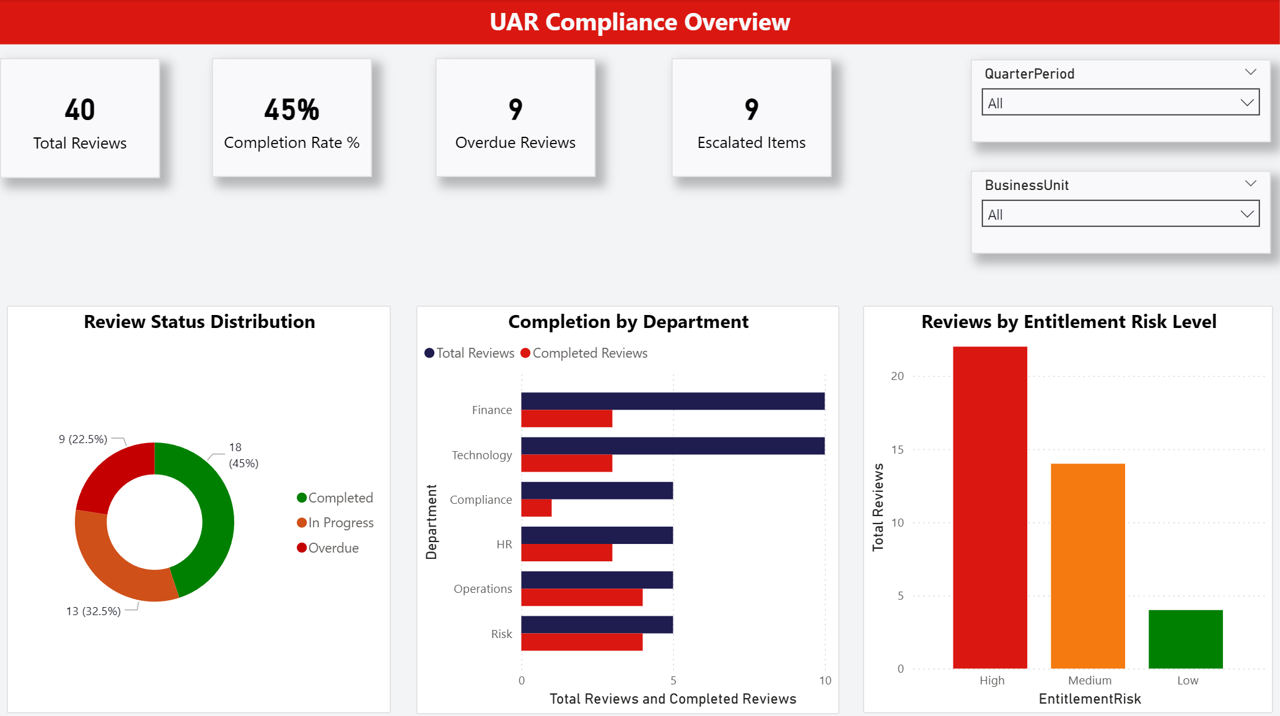

What the dashboard file says about the page in this screenshot:
{"tool":"powerbi","page":{"name":"Compliance Overview","canvas":[1280,720],"ordinal":0},"visuals":[{"type":"card","fields":{"Values":["IAM_UAR_Data.Total Reviews Card"]},"box":[0,59.1,160,120],"z":0},{"type":"card","fields":{"Values":["IAM_UAR_Data.Completion Rate %"]},"box":[211.8,59.1,160,119.1],"z":1000},{"type":"card","fields":{"Values":["IAM_UAR_Data.Overdue Reviews"]},"box":[435.5,59.1,160,119.1],"z":2000},{"type":"card","fields":{"Values":["IAM_UAR_Data.Escalated Items"]},"box":[671.8,59.1,160,119.1],"z":3000},{"type":"donutChart","title":"Review Status Distribution","fields":{"Category":["IAM_UAR_Data.ReviewStatus"],"Y":["IAM_UAR_Data.Total Reviews"]},"box":[6.8,306.7,383.5,408.3],"z":4000},{"type":"clusteredBarChart","title":"Completion by Department","fields":{"Category":["IAM_UAR_Data.Department"],"Y":["IAM_UAR_Data.Total Reviews","IAM_UAR_Data.Completed Reviews"]},"box":[416.2,306.7,422.5,408.8],"z":5000},{"type":"clusteredColumnChart","title":"Reviews by Entitlement Risk Level","fields":{"Category":["IAM_UAR_Data.EntitlementRisk"],"Y":["IAM_UAR_Data.Total Reviews"]},"box":[863.1,306.7,410.2,408.3],"z":6000},{"type":"slicer","fields":{"Values":["IAM_UAR_Data.BusinessUnit"]},"box":[970.7,171.8,300,82.7],"z":7000},{"type":"slicer","fields":{"Values":["IAM_UAR_Data.QuarterPeriod"]},"box":[970.7,60,300,82.7],"z":8000},{"type":"textbox","box":[0,0,1280,45],"z":9000}]}

Visuals, with their boxes in screenshot pixels (x1, y1, x2, y2), scaled from the page's 1280x720 canvas onto the 1280x716 screenshot:
card - IAM_UAR_Data.Total Reviews Card: <region>0, 59, 160, 178</region>
card - IAM_UAR_Data.Completion Rate %: <region>212, 59, 372, 177</region>
card - IAM_UAR_Data.Overdue Reviews: <region>436, 59, 596, 177</region>
card - IAM_UAR_Data.Escalated Items: <region>672, 59, 832, 177</region>
"Review Status Distribution" donutChart: <region>7, 305, 390, 711</region>
"Completion by Department" clusteredBarChart: <region>416, 305, 839, 712</region>
"Reviews by Entitlement Risk Level" clusteredColumnChart: <region>863, 305, 1273, 711</region>
slicer - IAM_UAR_Data.BusinessUnit: <region>971, 171, 1271, 253</region>
slicer - IAM_UAR_Data.QuarterPeriod: <region>971, 60, 1271, 142</region>
textbox: <region>0, 0, 1279, 45</region>
